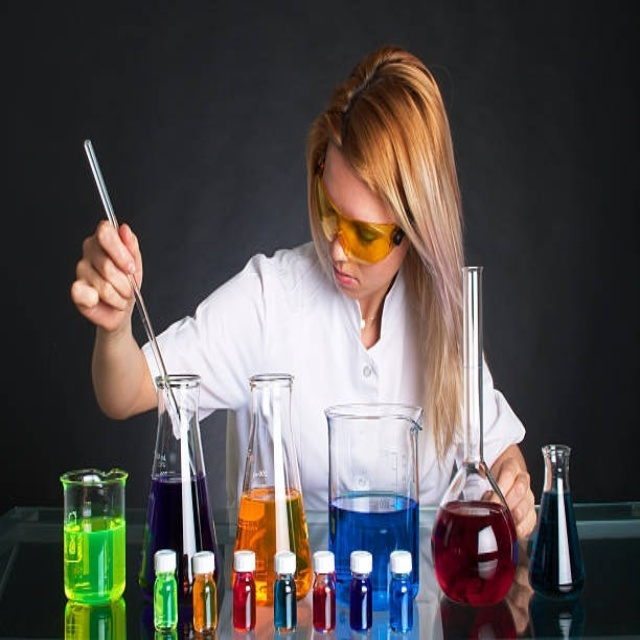Gafas: (315, 164, 405, 264)
Sin_guantes: (70, 217, 142, 332), (488, 443, 536, 540)
Sin_mascara: (325, 257, 370, 300)
